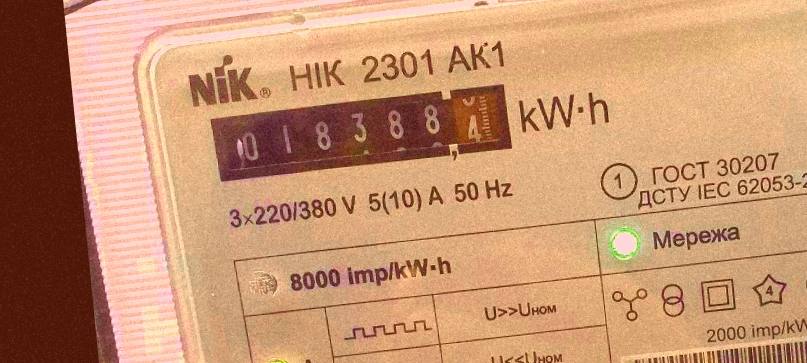0: (237, 126, 261, 164)
1: (275, 118, 296, 156)
3: (347, 108, 370, 145)
4: (461, 109, 484, 144)
8: (310, 115, 334, 153), (419, 99, 443, 137), (383, 106, 406, 142)
screen: (200, 72, 525, 193)
